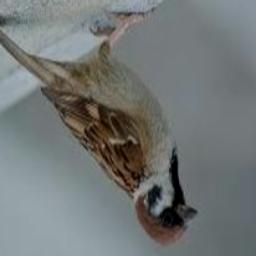Sparrow: (0, 12, 196, 248)
